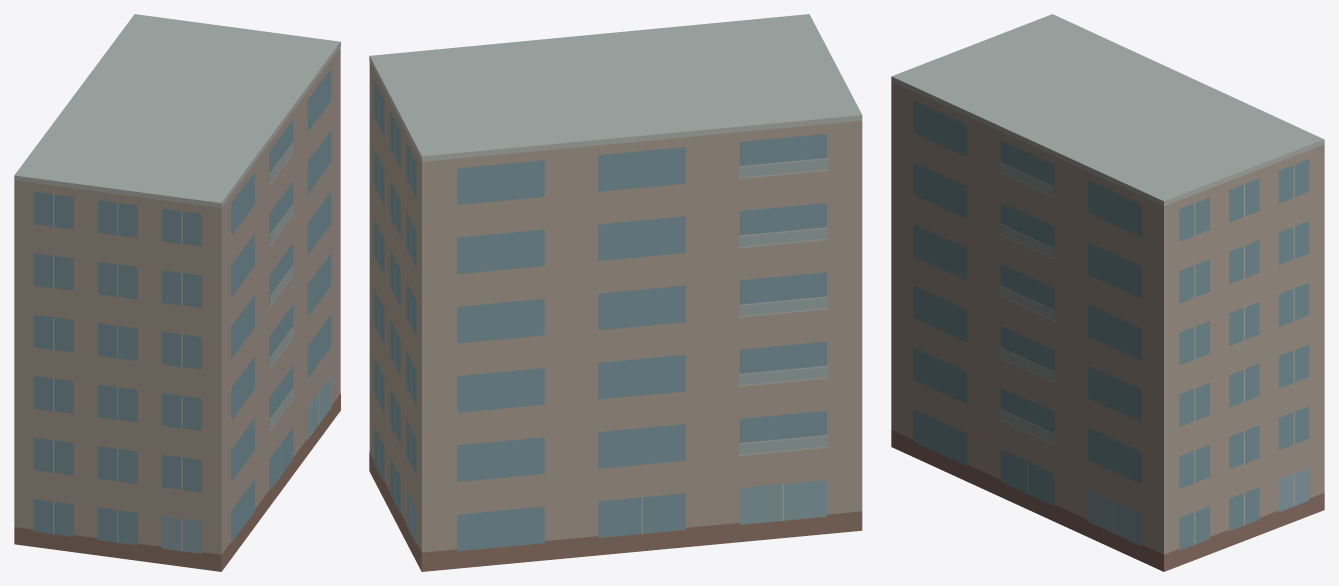
File: survey-upis-32586064.glb
3 renders of one model, left to right at view 1: azimuth 30°, elevation 25°; view 2: azimuth 150°, elevation 25°; view 3: azimuth 270°, elevation 25°, orthographic. The views are drawn at different scales.
Parts seen in each view (by area): view 1: survey-upis-32586064.tmp; view 2: survey-upis-32586064.tmp; view 3: survey-upis-32586064.tmp.
Boxes of the visible parts, x1=… form: survey-upis-32586064.tmp: x1=14, y1=14, x2=340, y2=571; survey-upis-32586064.tmp: x1=369, y1=14, x2=862, y2=571; survey-upis-32586064.tmp: x1=891, y1=14, x2=1324, y2=571.
Size of the model in its own units: 19.85 by 18.3 by 19.39.
